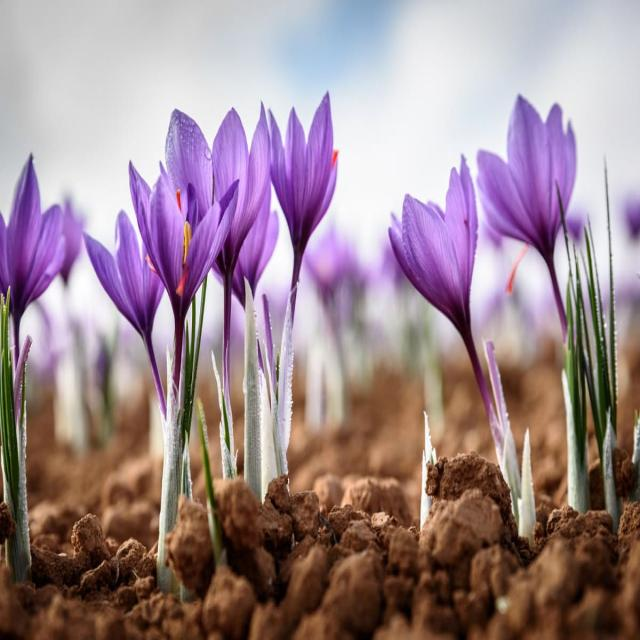saffron open: (166, 104, 270, 478), (389, 159, 502, 453), (478, 96, 576, 338), (131, 164, 235, 387), (84, 211, 166, 420), (269, 93, 338, 320), (0, 157, 65, 364)
